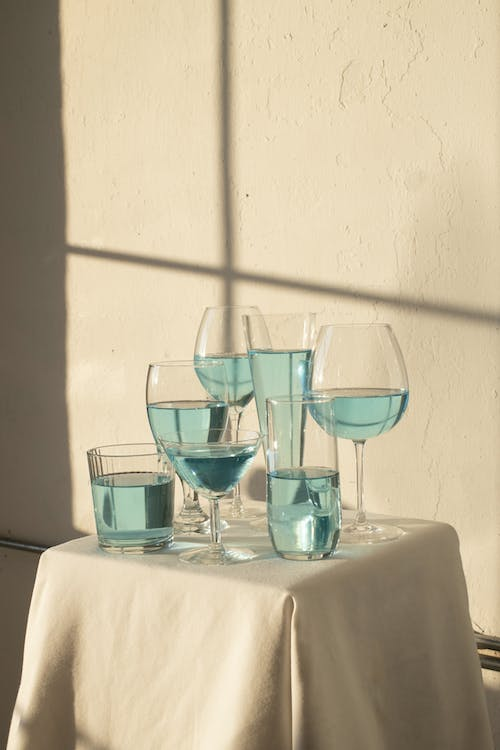alcohol: (306, 321, 411, 547), (191, 304, 273, 526), (243, 309, 319, 516), (144, 358, 232, 535), (156, 428, 265, 568), (265, 392, 344, 562), (86, 440, 176, 556)
